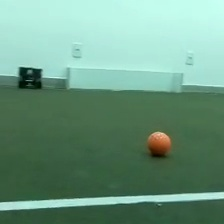ball: (145, 129, 173, 159)
goal: (63, 64, 185, 95)
robot: (16, 65, 43, 90)
